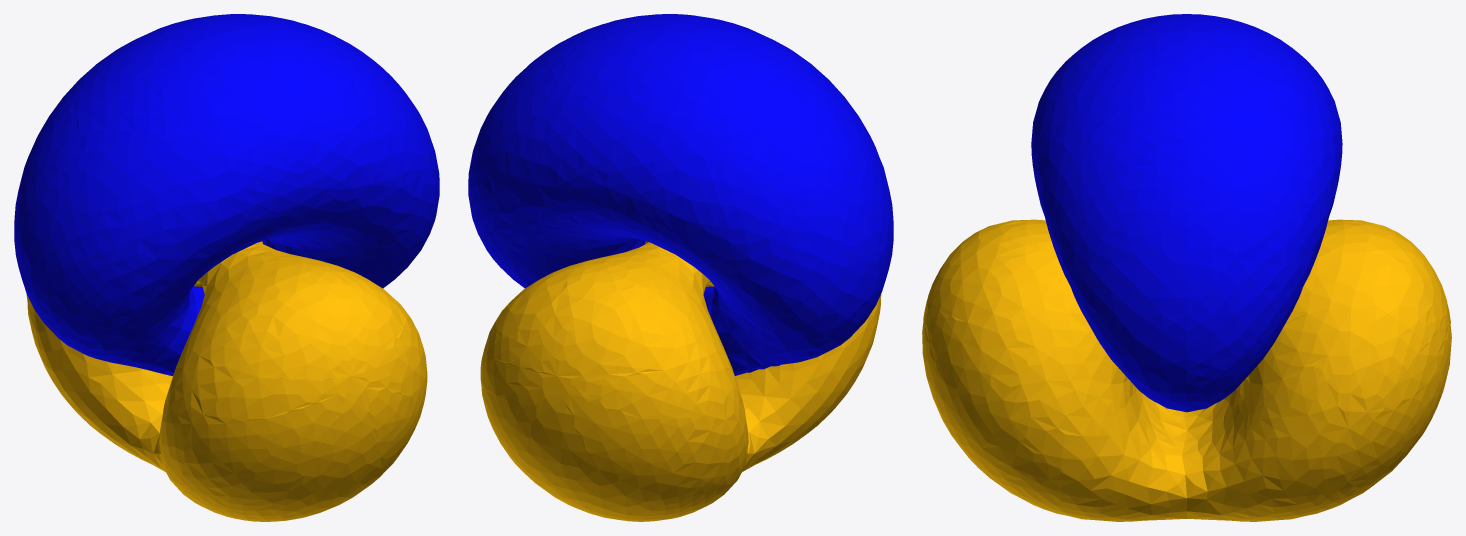
The picture shows the model from 3 angles, left to right: view 1: azimuth 30°, elevation 25°; view 2: azimuth 150°, elevation 25°; view 3: azimuth 270°, elevation 25°; orthographic projection. The views are drawn at different scales.
Size of the model in its own units: 18.03 by 19.72 by 20.09.
